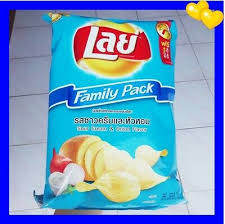lays-large: (42, 21, 178, 206)
